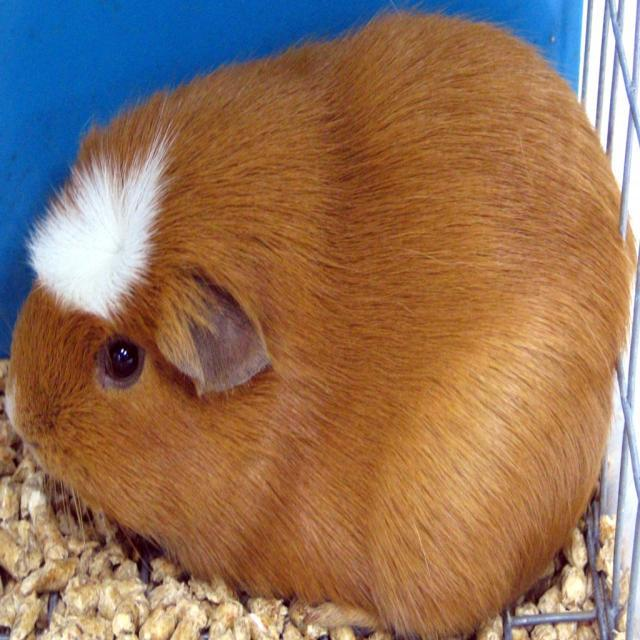rat: (4, 0, 637, 639)
